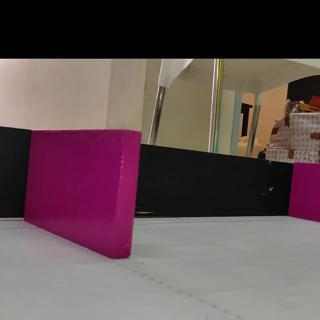xparking: (33, 131, 138, 245), (293, 163, 320, 221)
